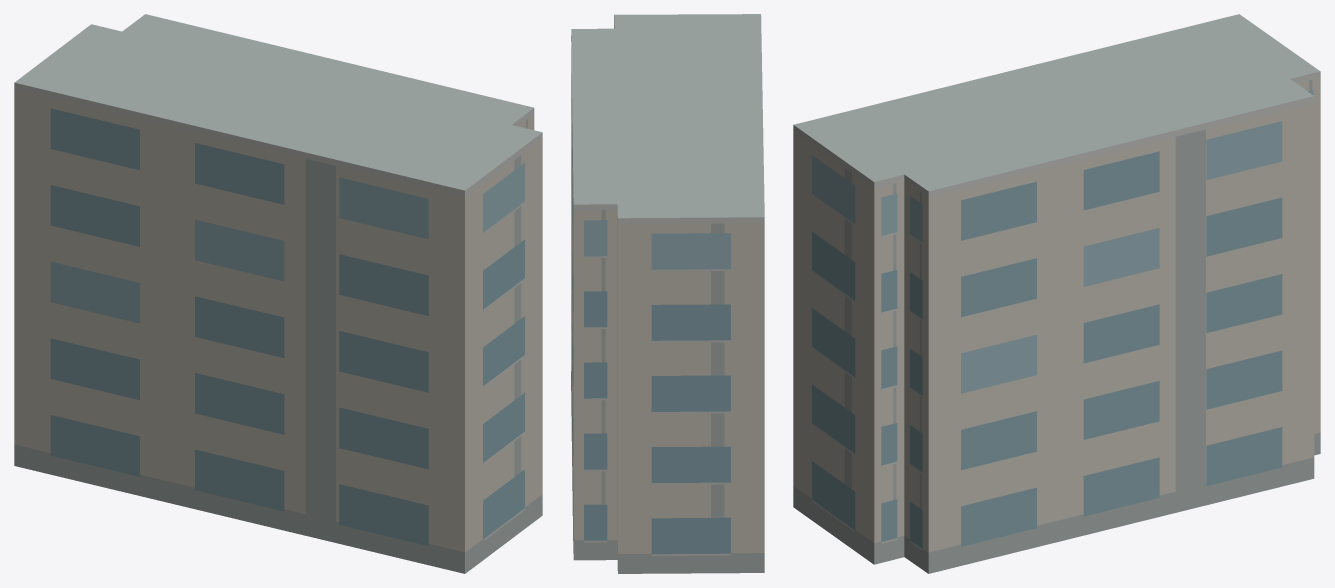
The model's file is survey-upis-32627240.glb.
The picture shows the model from 3 angles, left to right: view 1: azimuth 30°, elevation 25°; view 2: azimuth 150°, elevation 25°; view 3: azimuth 270°, elevation 25°; orthographic projection. The views are drawn at different scales.
Parts seen in each view (by area): view 1: survey-upis-32627240.tmp; view 2: survey-upis-32627240.tmp; view 3: survey-upis-32627240.tmp.
Part boxes in pixels (x1,y1,x2,y2): survey-upis-32627240.tmp: (14,14,542,573); survey-upis-32627240.tmp: (571,14,764,573); survey-upis-32627240.tmp: (793,14,1320,573).
Size of the model in its own units: 14.43 by 14.5 by 18.12.
